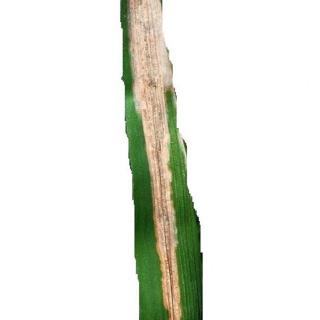Hawar-Daun: (128, 0, 206, 320)
